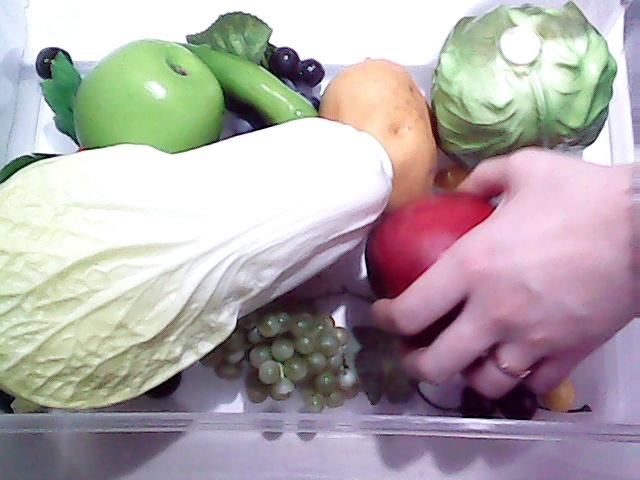apple: (72, 34, 226, 154), (362, 187, 498, 302)
cabbage: (428, 0, 618, 172)
grape: (195, 292, 368, 417), (186, 10, 326, 110)
napa cabbage: (0, 120, 400, 416)
pepper: (144, 41, 320, 135)
potato: (318, 57, 438, 219)
